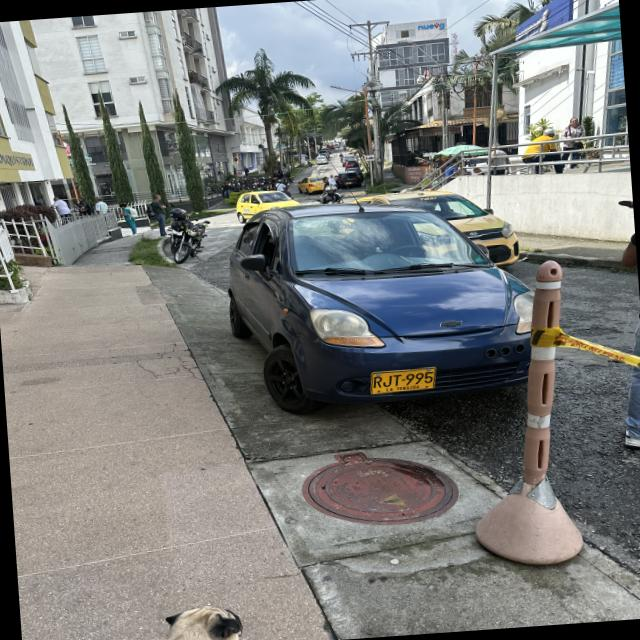number plate: (370, 366, 435, 394)
